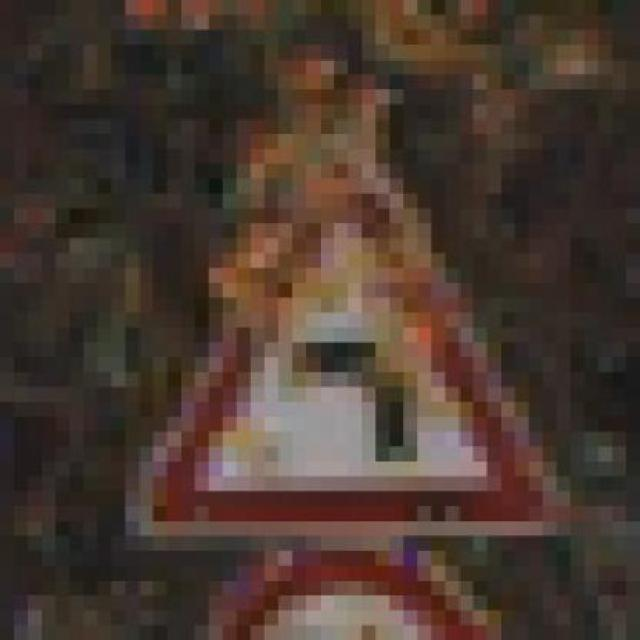Dangerous Left Curve Ahead: (97, 89, 571, 551)
